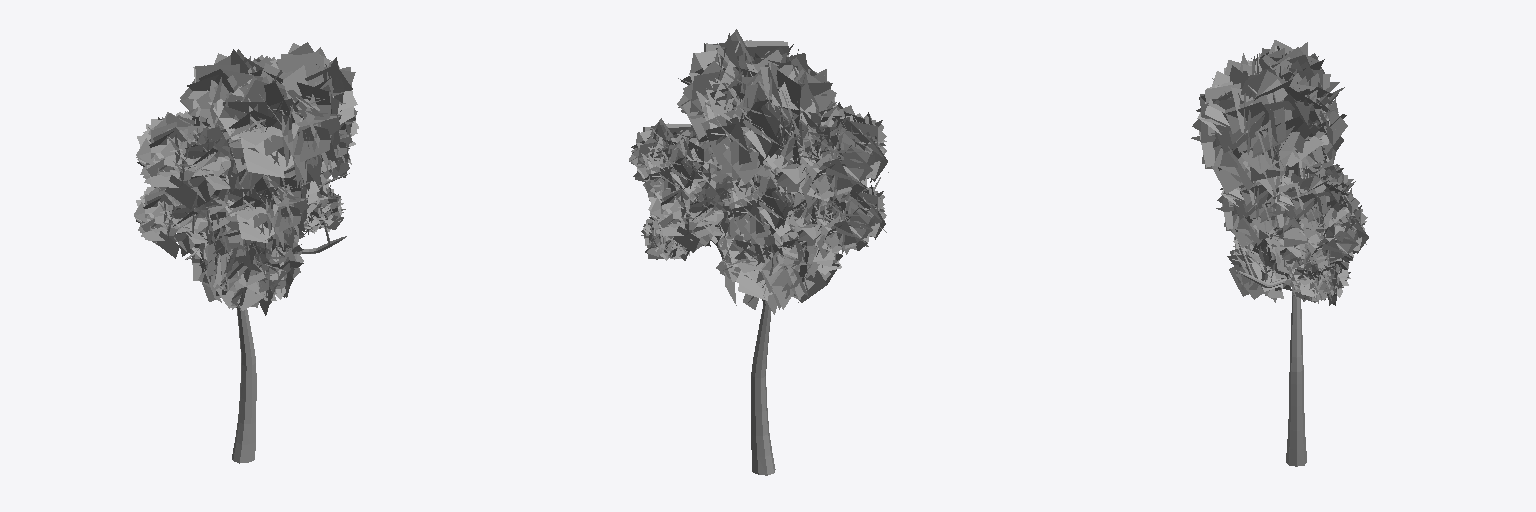
The model's file is BirchTree_3.obj.
3 renders of one model, left to right at view 1: azimuth 30°, elevation 25°; view 2: azimuth 150°, elevation 25°; view 3: azimuth 270°, elevation 25°, orthographic.
Parts seen in each view (by area): view 1: BirchTree_3_Cube.000; view 2: BirchTree_3_Cube.000; view 3: BirchTree_3_Cube.000.
Part boxes in pixels (bbox=[...]): BirchTree_3_Cube.000: bbox=[134, 42, 358, 463]; BirchTree_3_Cube.000: bbox=[629, 29, 888, 475]; BirchTree_3_Cube.000: bbox=[1191, 40, 1368, 466].
Size of the model in its own units: 3.43 by 5.75 by 2.27.